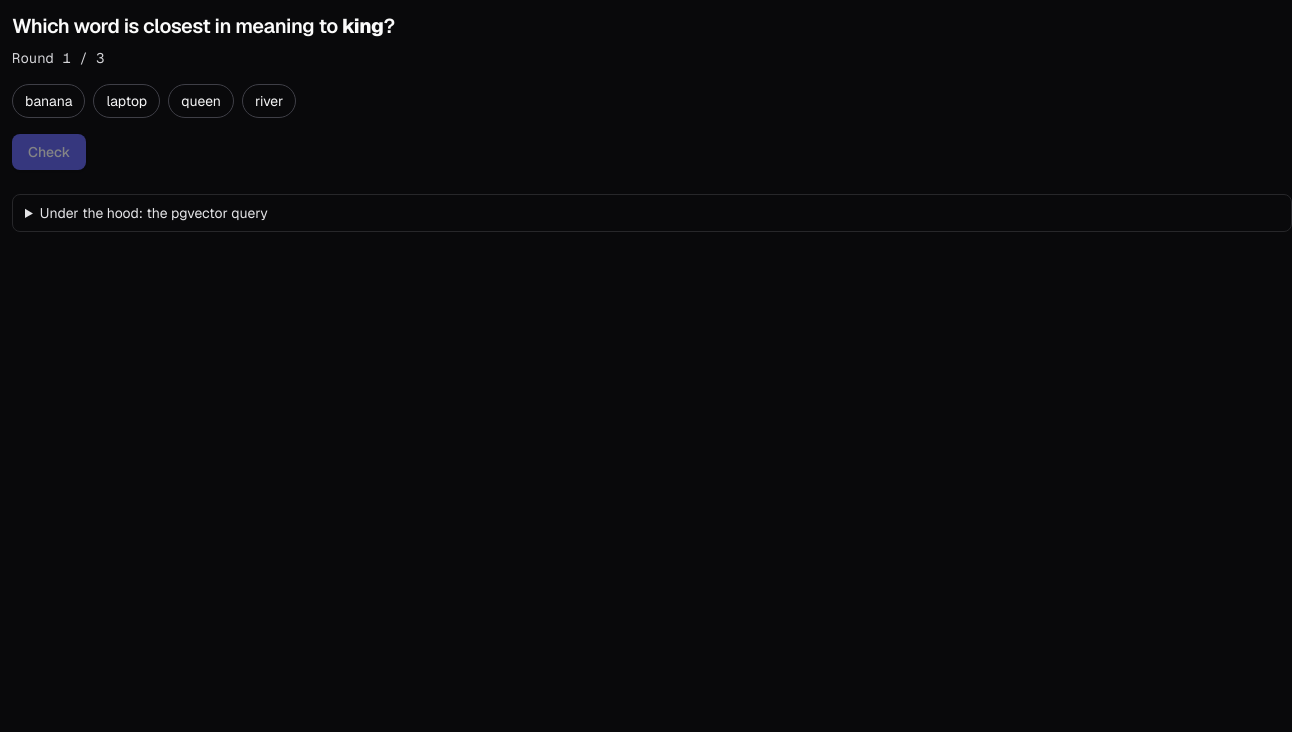
Test: a wrong pick names the closest word
Click the button "banana" at (49, 101), box [12,84,85,118]
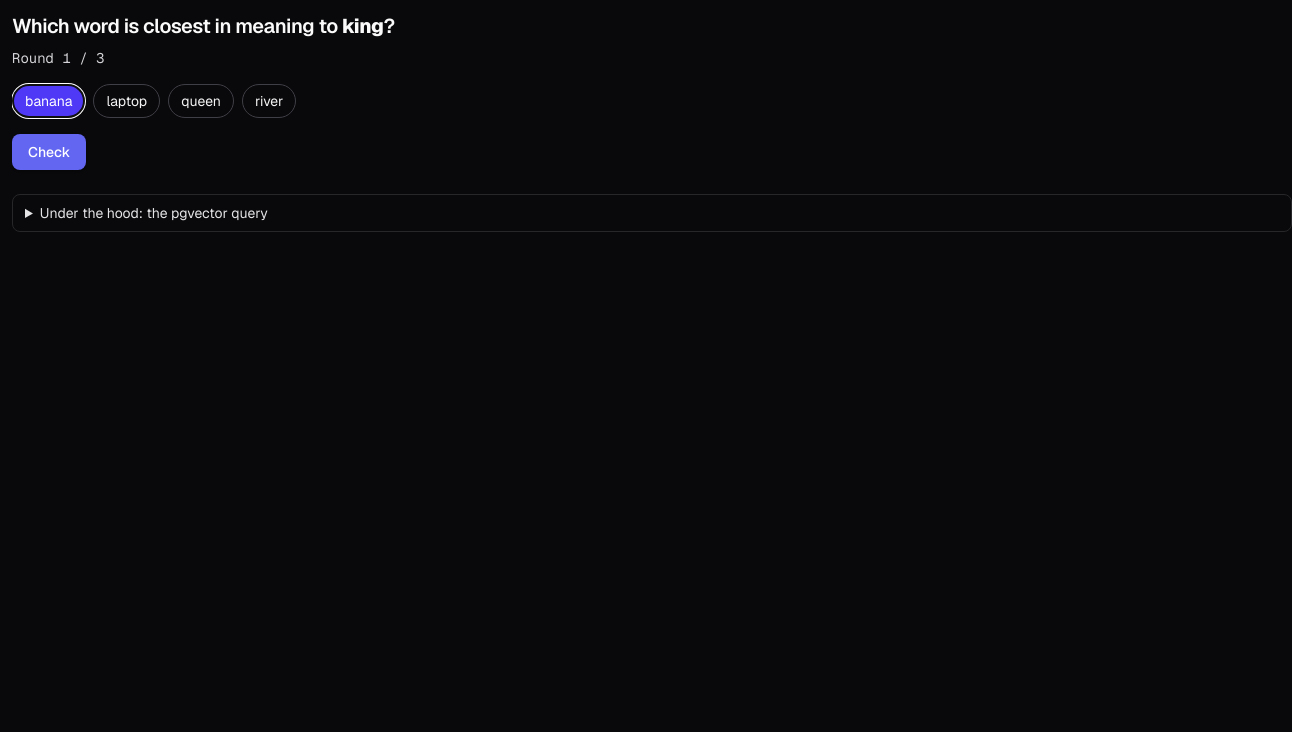
Click the button "Check" at (49, 152), box [12,134,86,170]
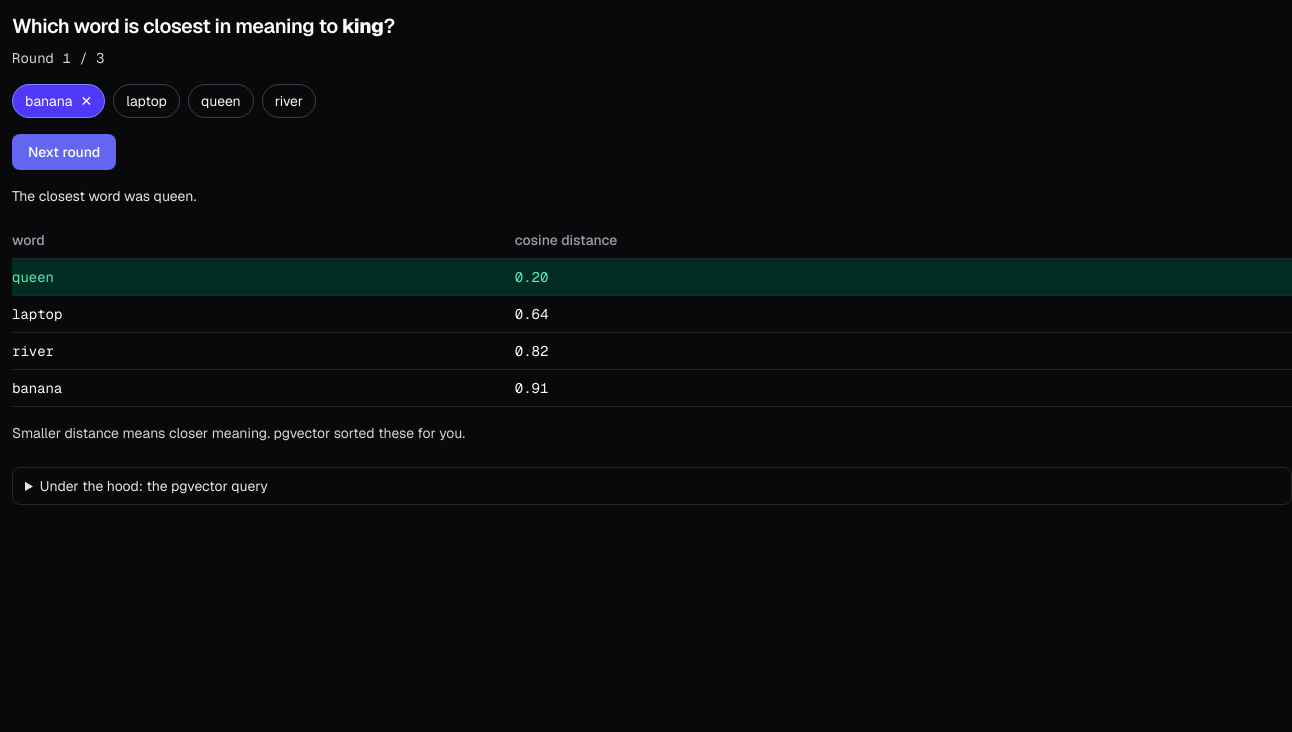
Now the text "The closest word was queen." is shown, box [12,187,196,205]
Now the button "banana ✕" is shown, box [12,84,105,118]
Now the button "Next round" is shown, box [12,134,116,170]
